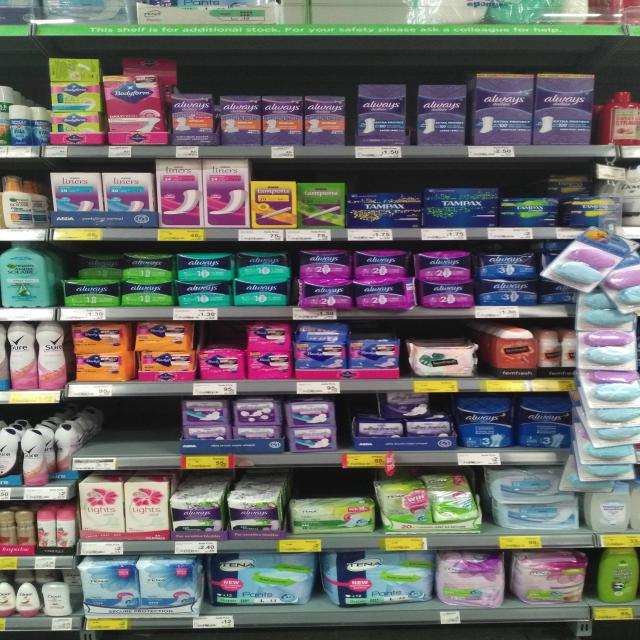unorganised: (46, 56, 101, 84), (70, 253, 120, 280), (549, 173, 595, 195)
